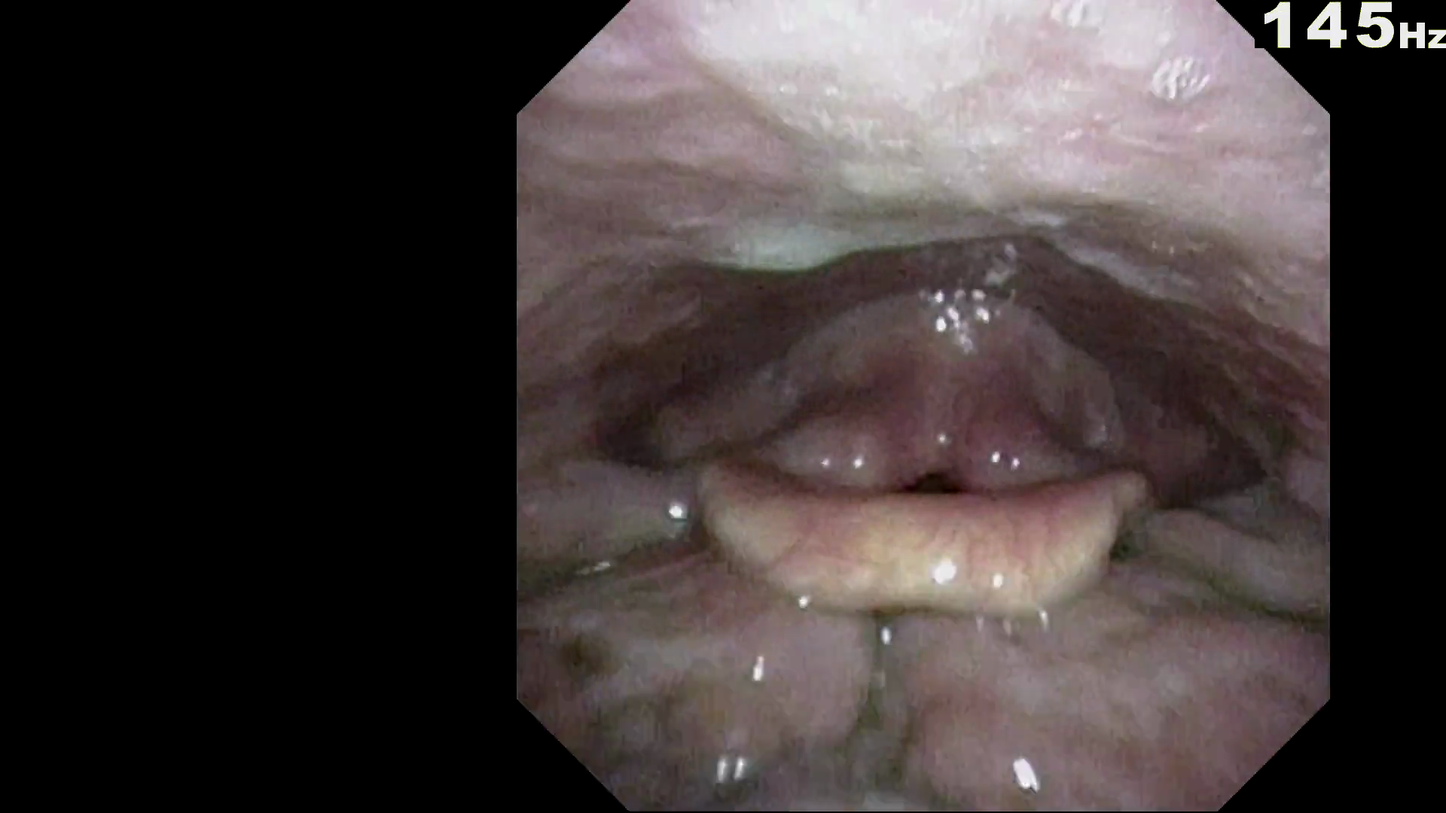epiglottis: (683, 490, 1185, 602)
trachea: (887, 457, 979, 515)
